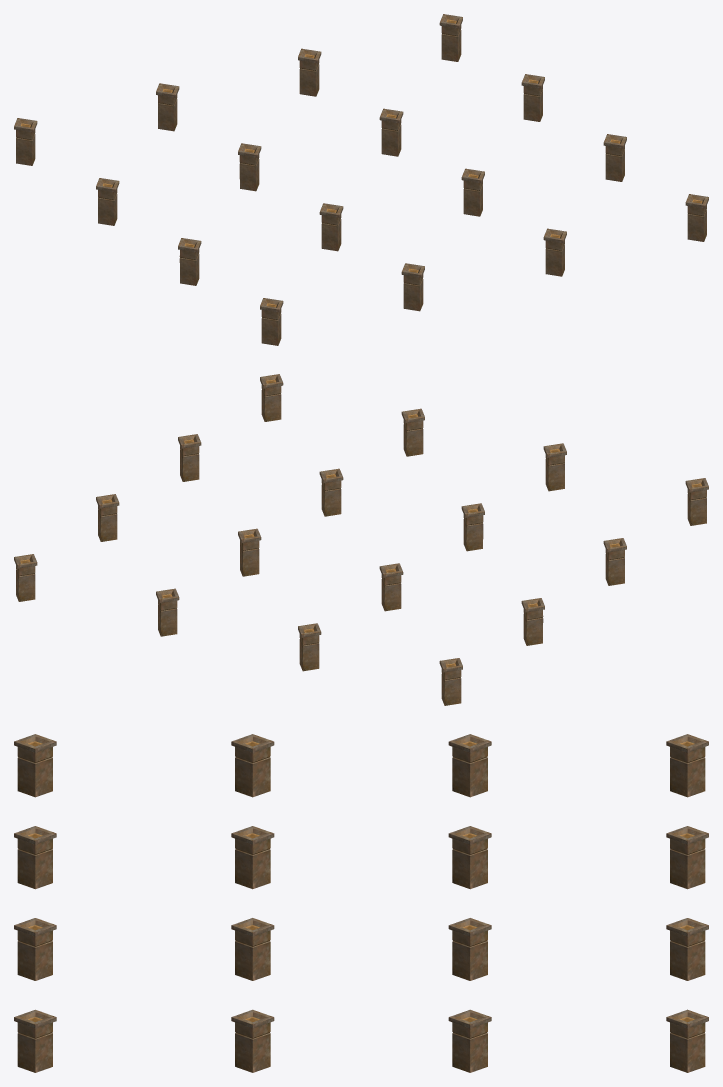
The picture shows the model from 3 angles, top to bottom: view 1: azimuth 30°, elevation 25°; view 2: azimuth 150°, elevation 25°; view 3: azimuth 270°, elevation 25°; orthographic projection. The views are drawn at different scales.
Parts seen in each view (by area): view 1: SM_Fire_Jet_Floor_Trap_Cannon_16_01_LOD0; view 2: SM_Fire_Jet_Floor_Trap_Cannon_16_01_LOD0; view 3: SM_Fire_Jet_Floor_Trap_Cannon_16_01_LOD0.
Boxes of the visible parts, bbox=[...] form: SM_Fire_Jet_Floor_Trap_Cannon_16_01_LOD0: bbox=[14, 14, 708, 345]; SM_Fire_Jet_Floor_Trap_Cannon_16_01_LOD0: bbox=[14, 374, 708, 705]; SM_Fire_Jet_Floor_Trap_Cannon_16_01_LOD0: bbox=[14, 734, 708, 1072].
Bounding box in the file's own units: 3.16 × 0.2521 × 3.2.
Materials: 2 (2 with a texture image).
